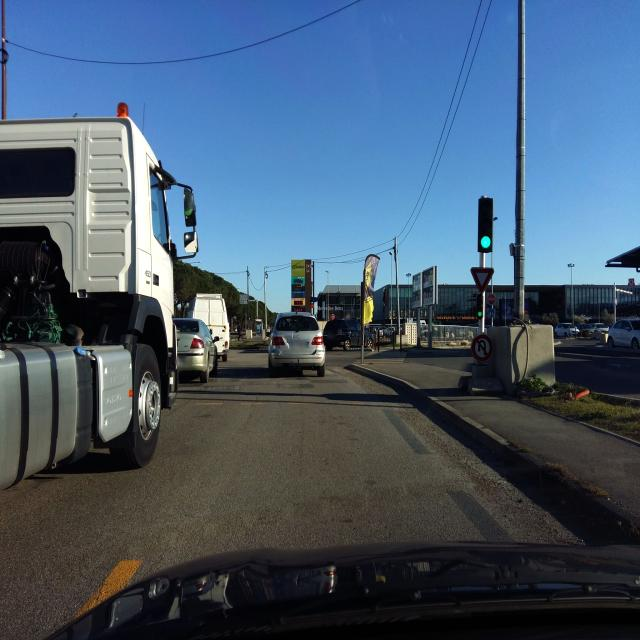car: (267, 311, 326, 377), (186, 293, 230, 362), (174, 317, 219, 383), (321, 317, 374, 351), (607, 318, 640, 350), (579, 323, 609, 339), (553, 322, 577, 338)
